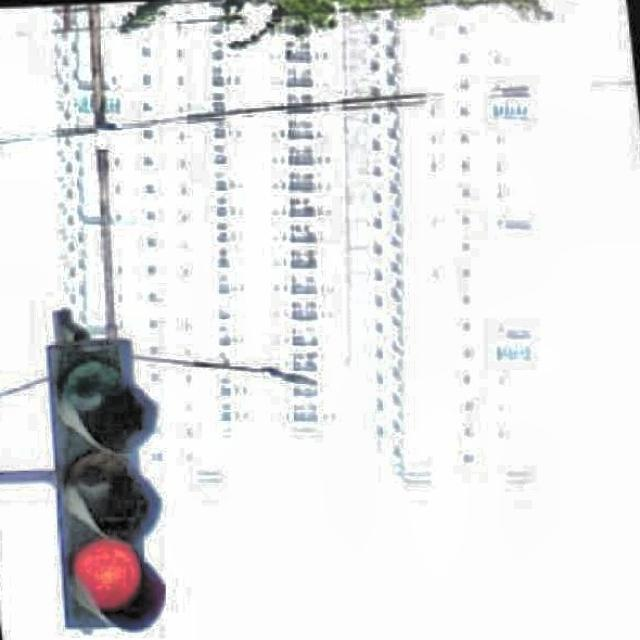red: (49, 337, 163, 640)
